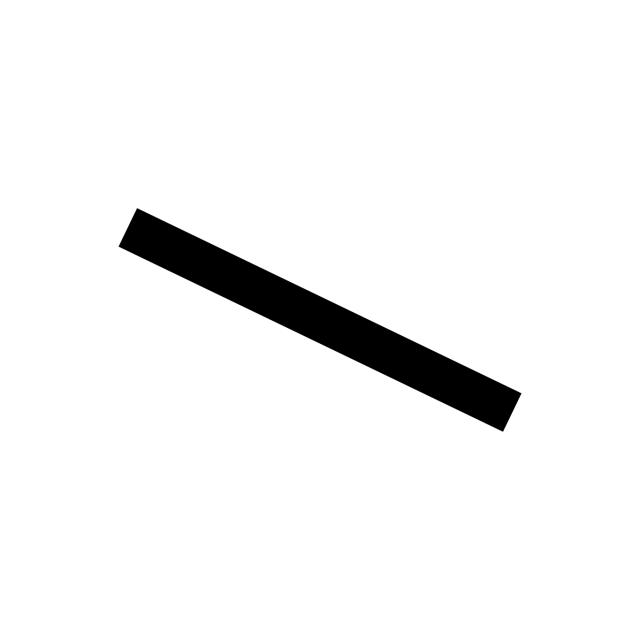line: (118, 208, 521, 432)
